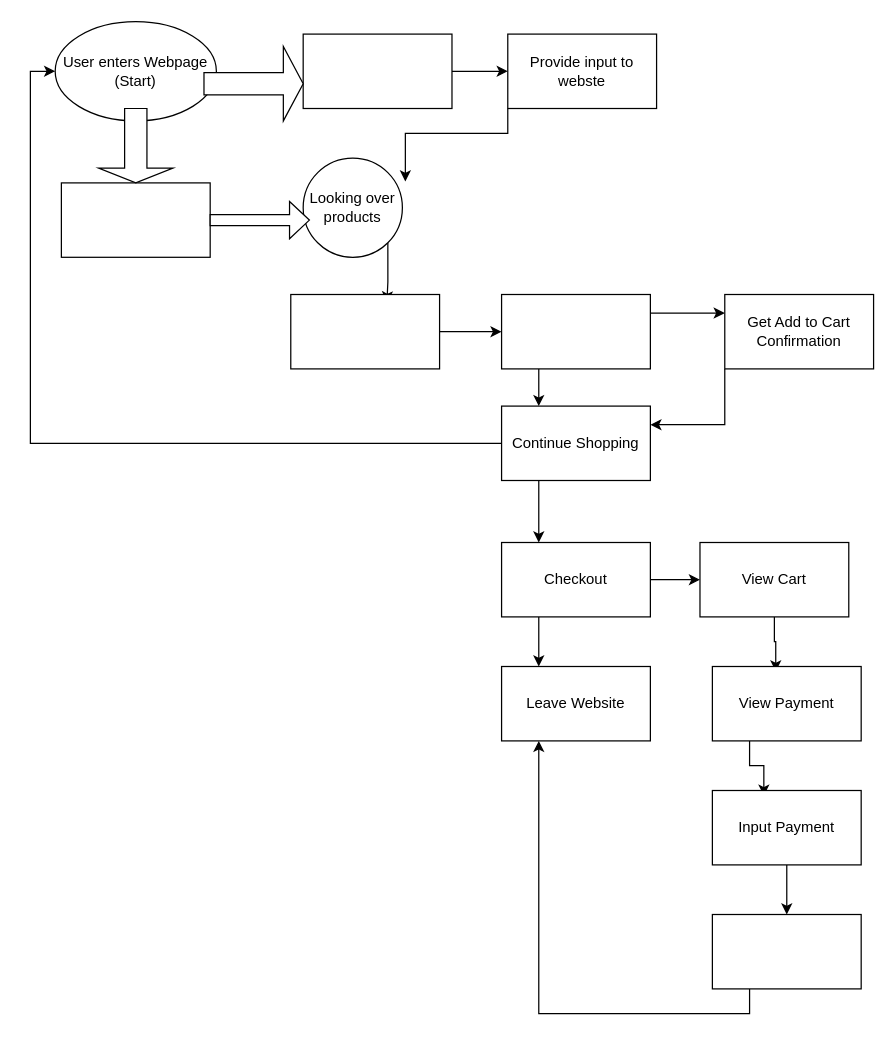
The diagram is 895 pixels wide and 1045 high, and some of its shapes have lost their labels. The centre of each missing label's shape, as x and y in pixels:
Add to cart: (x=575, y=331)
Explore products on home page: (x=135, y=219)
Order Confirmation & Confirmation Email: (x=786, y=951)
Search for product: (x=377, y=70)
View specific product: (x=365, y=331)
